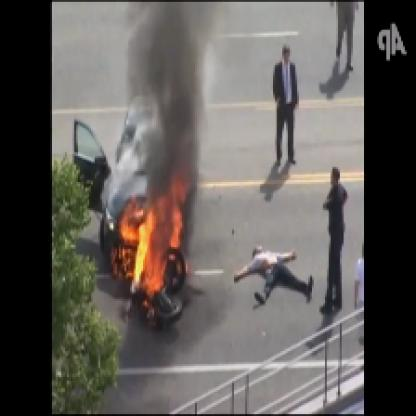Fire: (119, 178, 189, 301)
Smoke: (137, 2, 212, 197)
